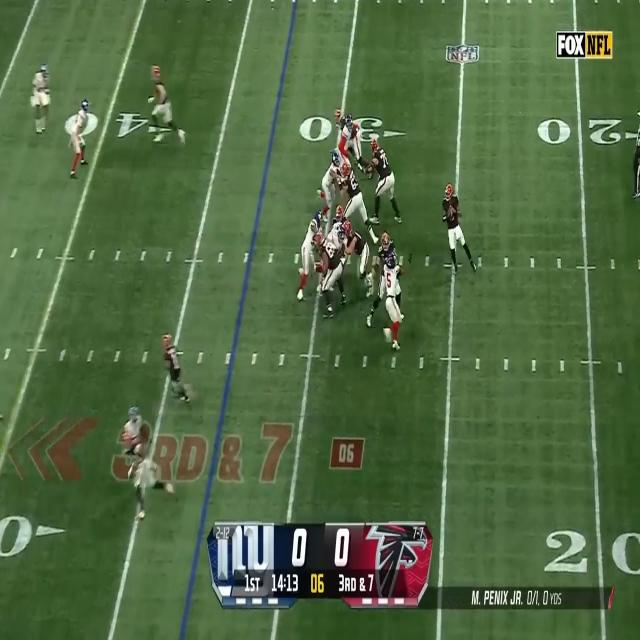Ball: (447, 205, 456, 222)
